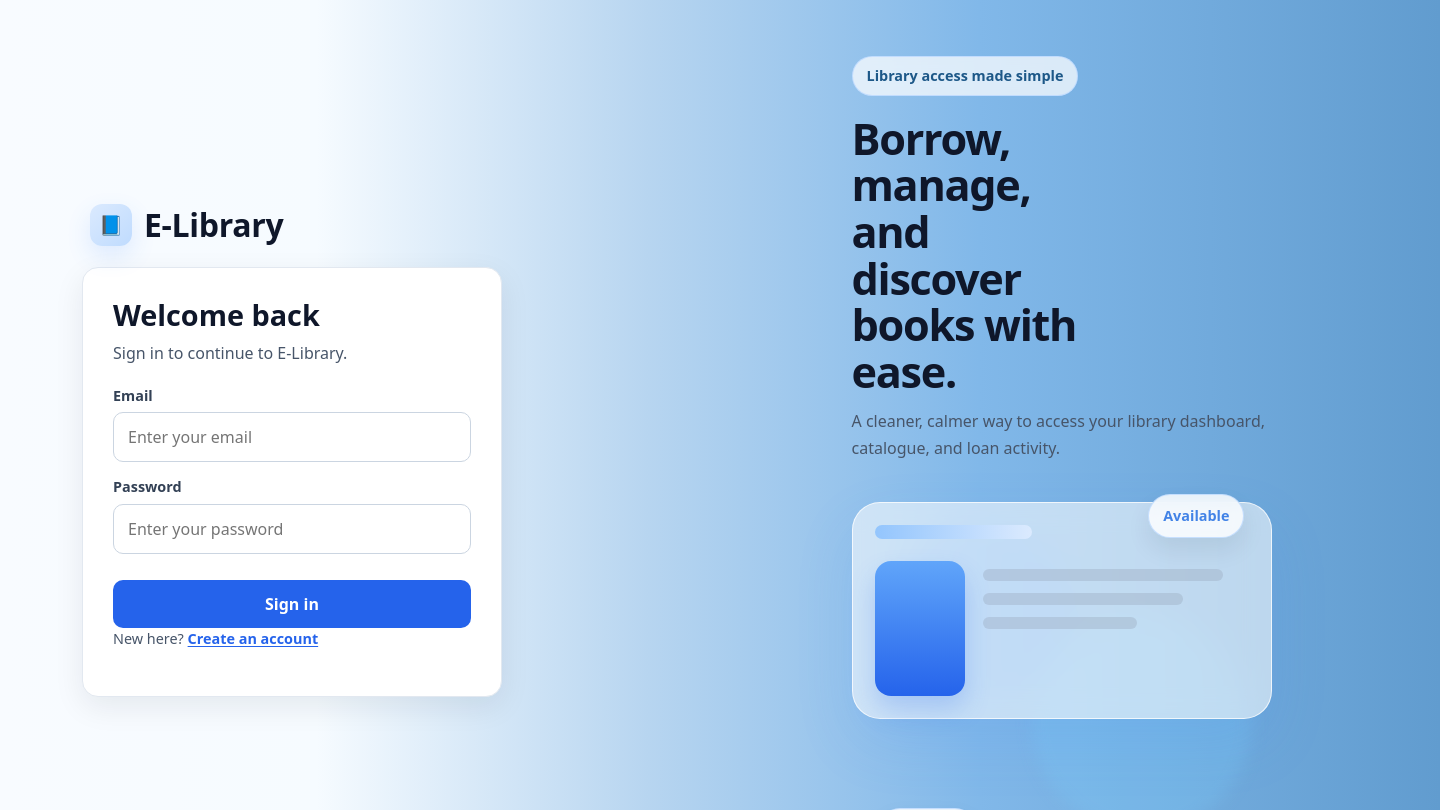
Scenario: LoginPage › returns to login from register via Sign in
Click the button "Create an account" at (253, 639), box [188,628,318,650]
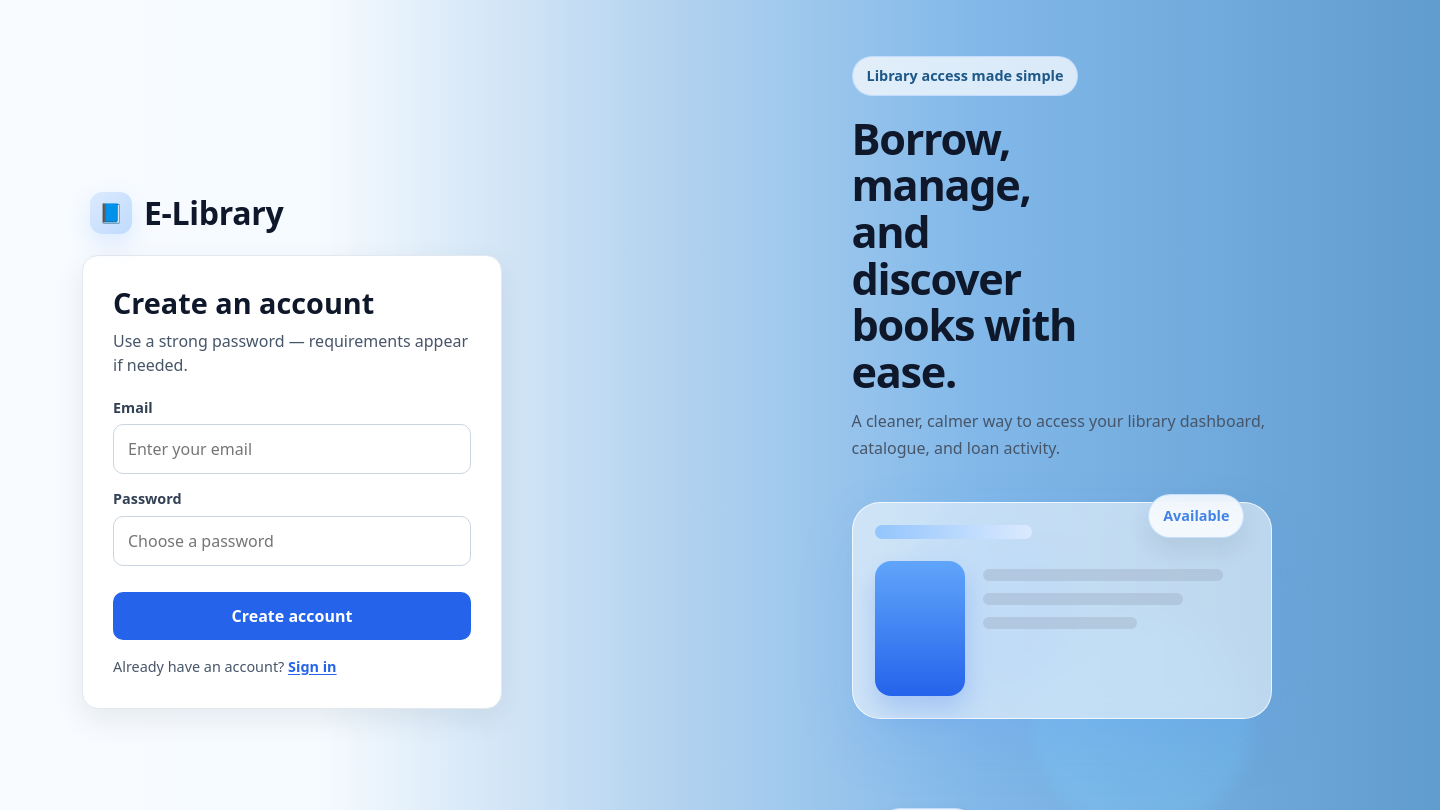
Click the button "Sign in" at (312, 667), box [288,656,337,678]
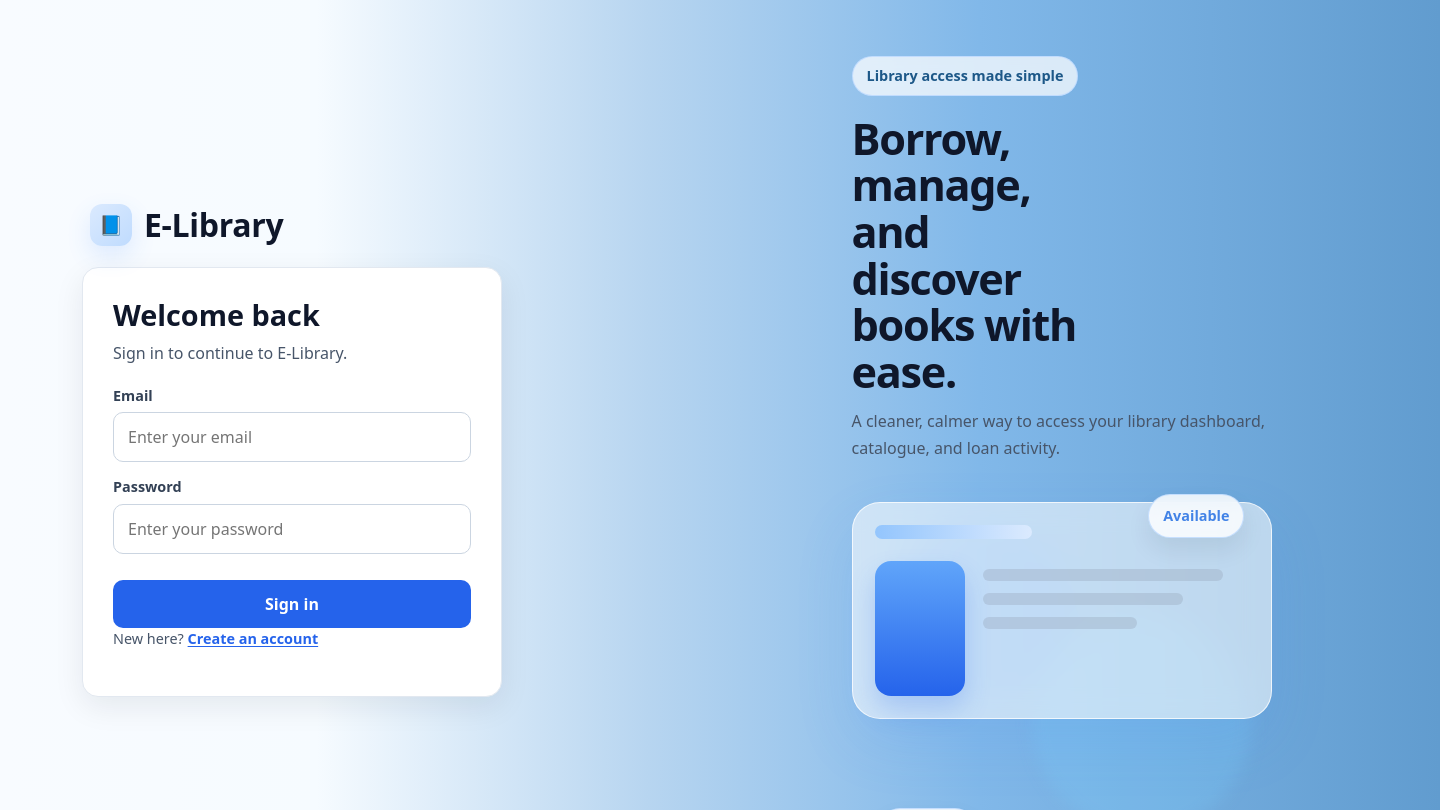
expect the heading "Welcome back" is shown: met, box [113,295,320,334]
